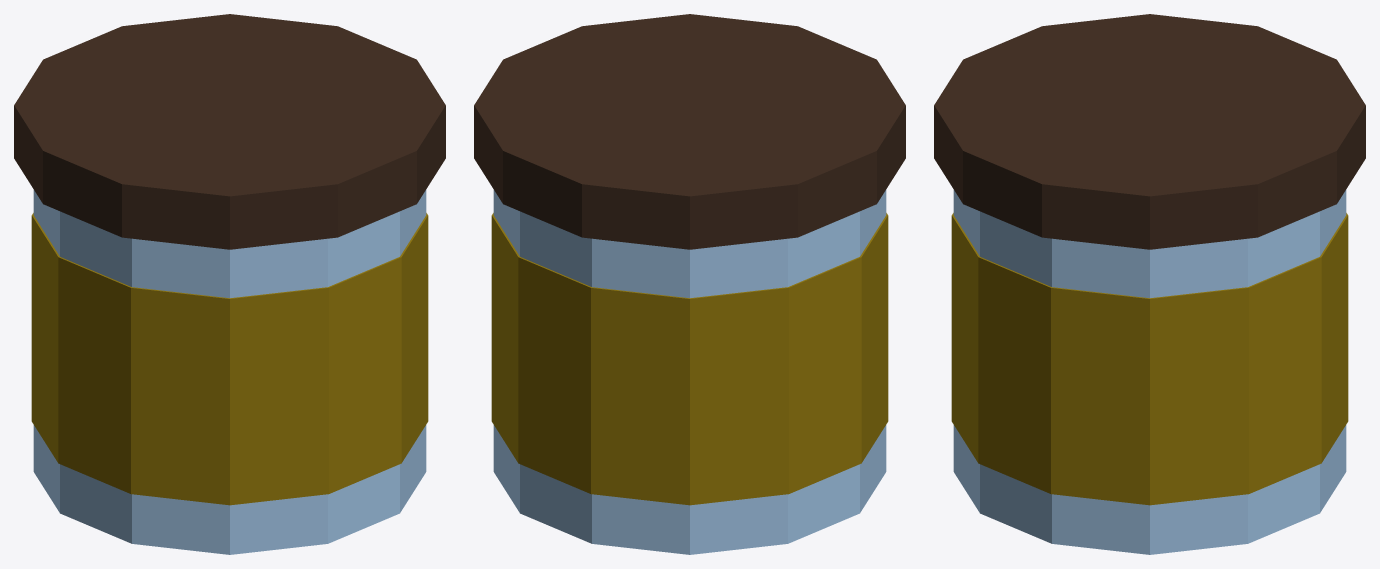
File: majonez.fbx
3 renders of one model, left to right at view 1: azimuth 30°, elevation 25°; view 2: azimuth 150°, elevation 25°; view 3: azimuth 270°, elevation 25°, orthographic.
Parts seen in each view (by area): view 1: Cylinder.002; view 2: Cylinder.002; view 3: Cylinder.002.
Boxes of the visible parts, box(x1,y1,x2,y2) form: Cylinder.002: box(14, 14, 445, 554); Cylinder.002: box(474, 14, 905, 554); Cylinder.002: box(934, 14, 1365, 554).
Bounding box in the file's own units: 220 × 206 × 220.
